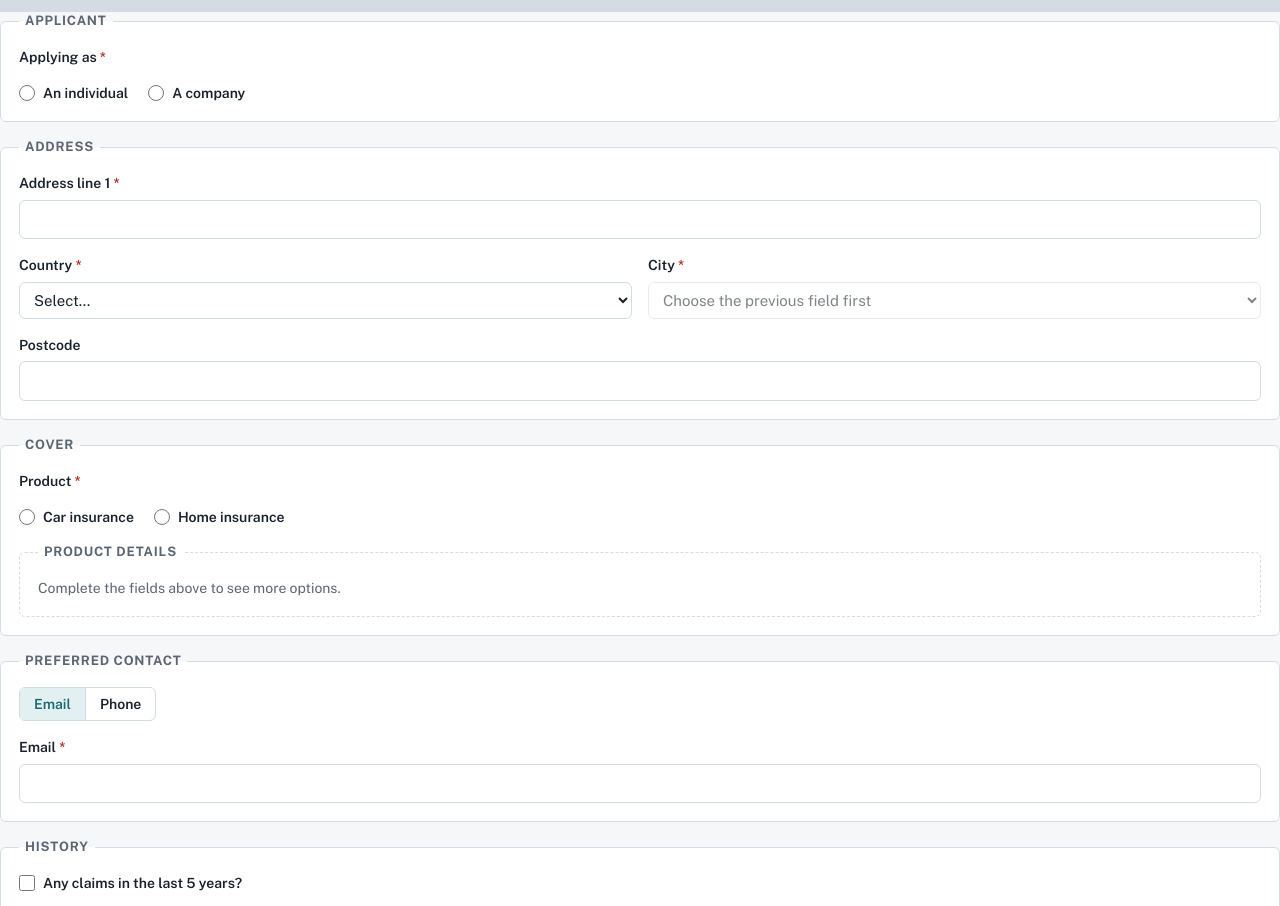
Test case: <SchemaForm> › switches discriminated branches
Expected: the field labelled "First name" is not shown
Click the radio button labelled "An individual" at (27, 93), box [19,85,35,101]
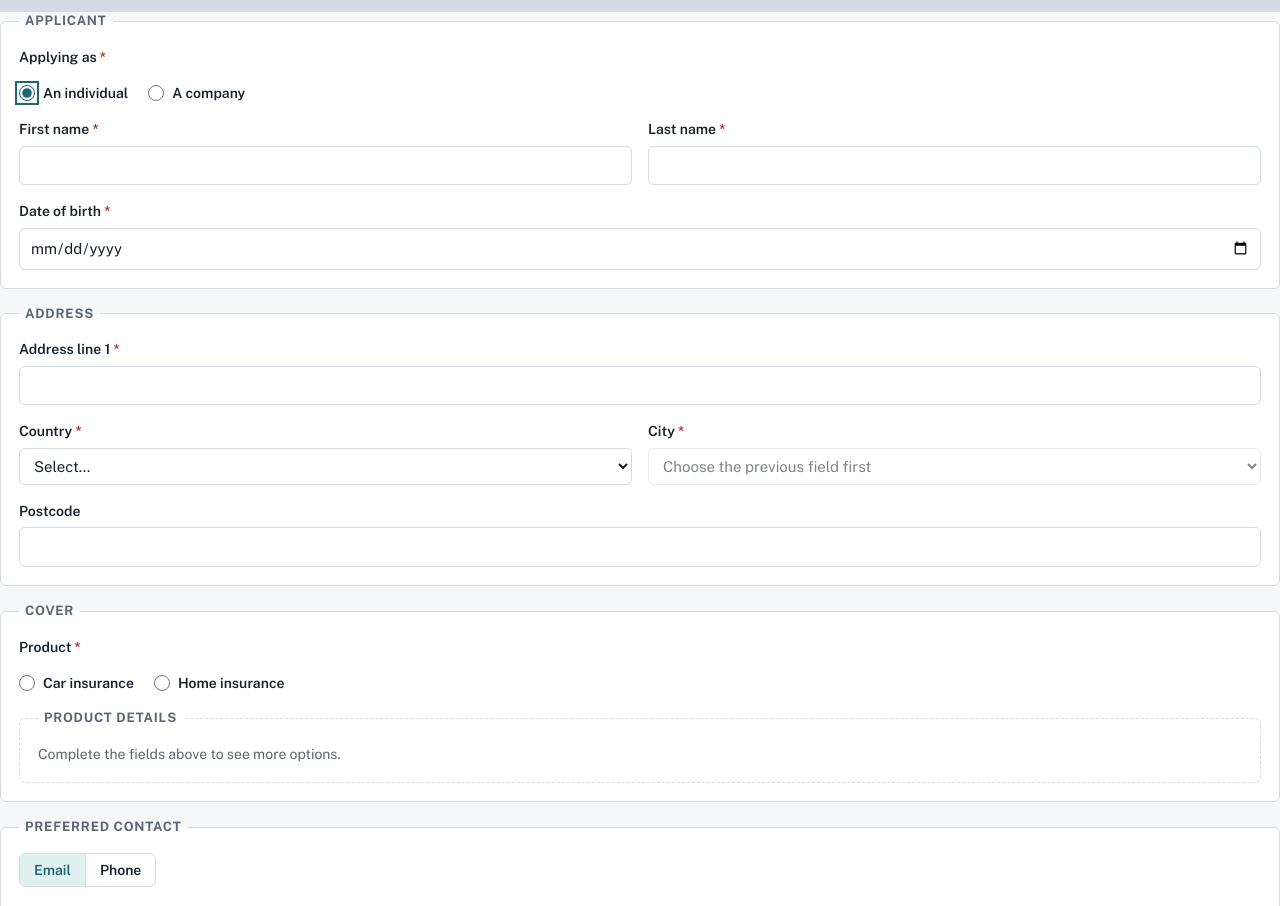
Expected: the field labelled "First name *" is shown, [19,146,632,186]
Click the radio button labelled "A company" at (156, 93), box [148,85,164,101]
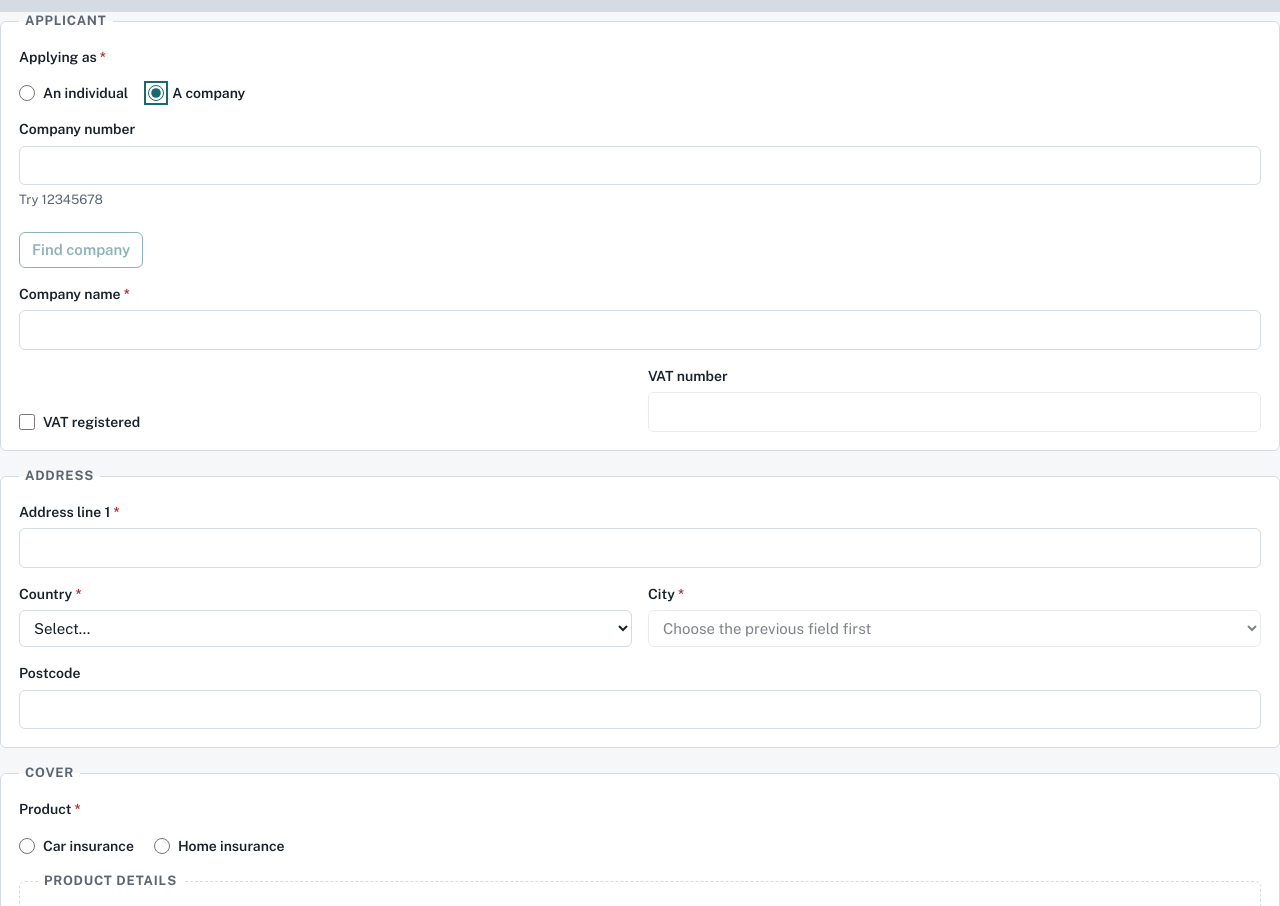
Expected: the label labelled "First name" is gone
Expected: the field labelled "Company name *" is shown, [19,310,1261,350]
